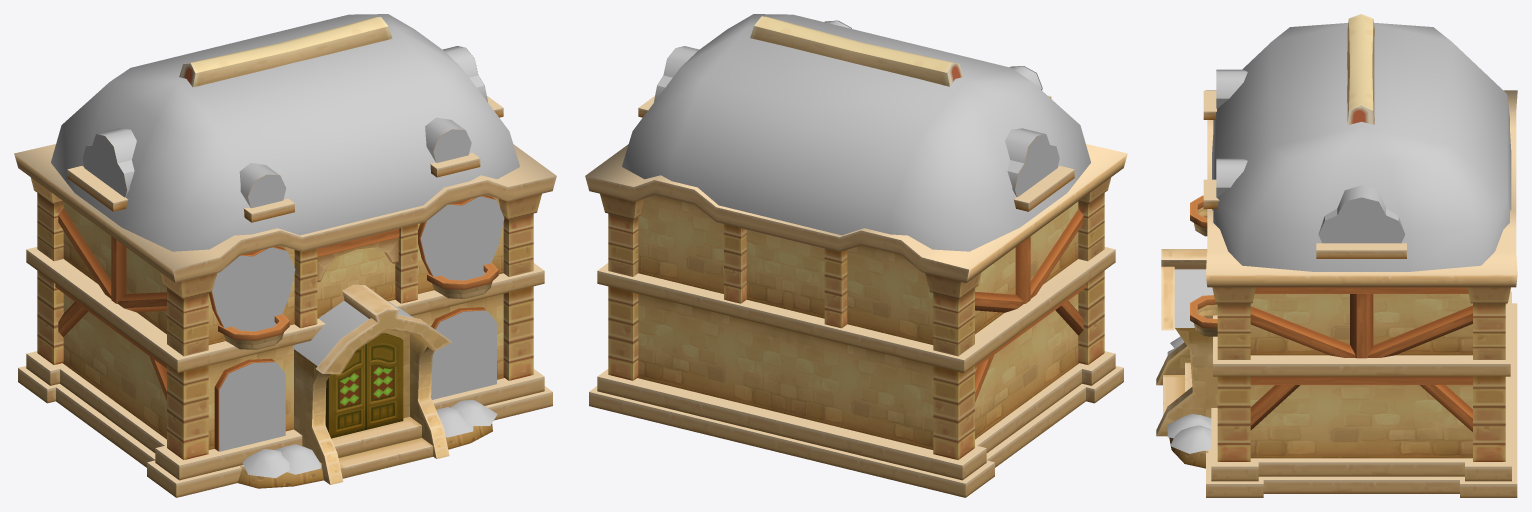
Rendered from hga001.dae.
The picture shows the model from 3 angles, left to right: view 1: azimuth 30°, elevation 25°; view 2: azimuth 150°, elevation 25°; view 3: azimuth 270°, elevation 25°; orthographic projection.
Parts seen in each view (by area): view 1: Object02, Object01, m_night01, Object04, Object03; view 2: Object02, Object01, m_night01; view 3: Object02, Object01, m_night01, Object04.
Boxes of the visible parts, box(x1,y1,x2,y2) form: Object02: box(14, 17, 556, 497); Object01: box(51, 14, 519, 366); m_night01: box(82, 46, 504, 451); Object04: box(242, 400, 497, 478); Object03: box(87, 129, 495, 451); Object02: box(585, 16, 1127, 497); Object01: box(622, 14, 1090, 251); m_night01: box(654, 20, 1059, 196); Object02: box(1156, 14, 1517, 497); Object01: box(1174, 23, 1511, 327); m_night01: box(1319, 197, 1404, 243); Object04: box(1167, 336, 1211, 453).
Size of the model in its own units: 8.16 by 6.66 by 7.08.
